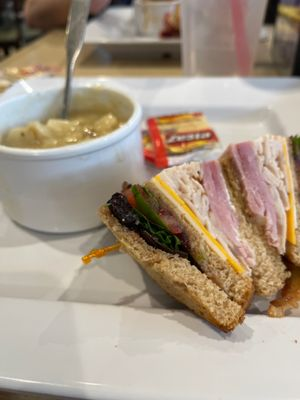salad: (57, 0, 91, 122)
sushi: (0, 76, 146, 236)
